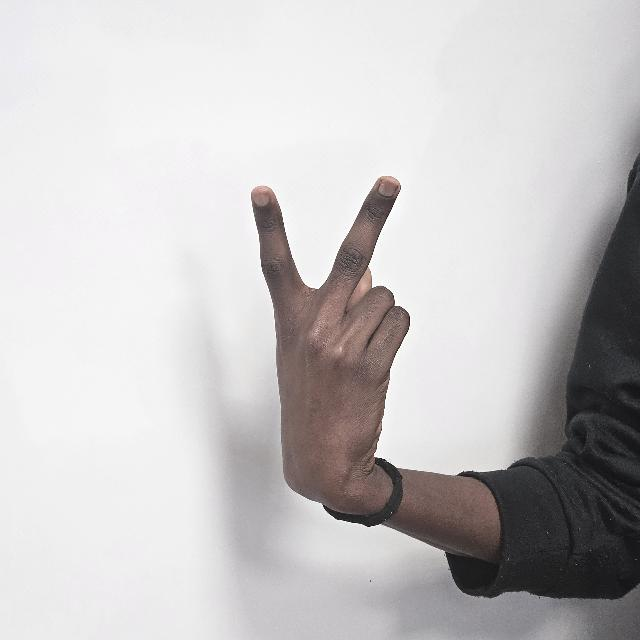Triangulo: (244, 177, 398, 526)
